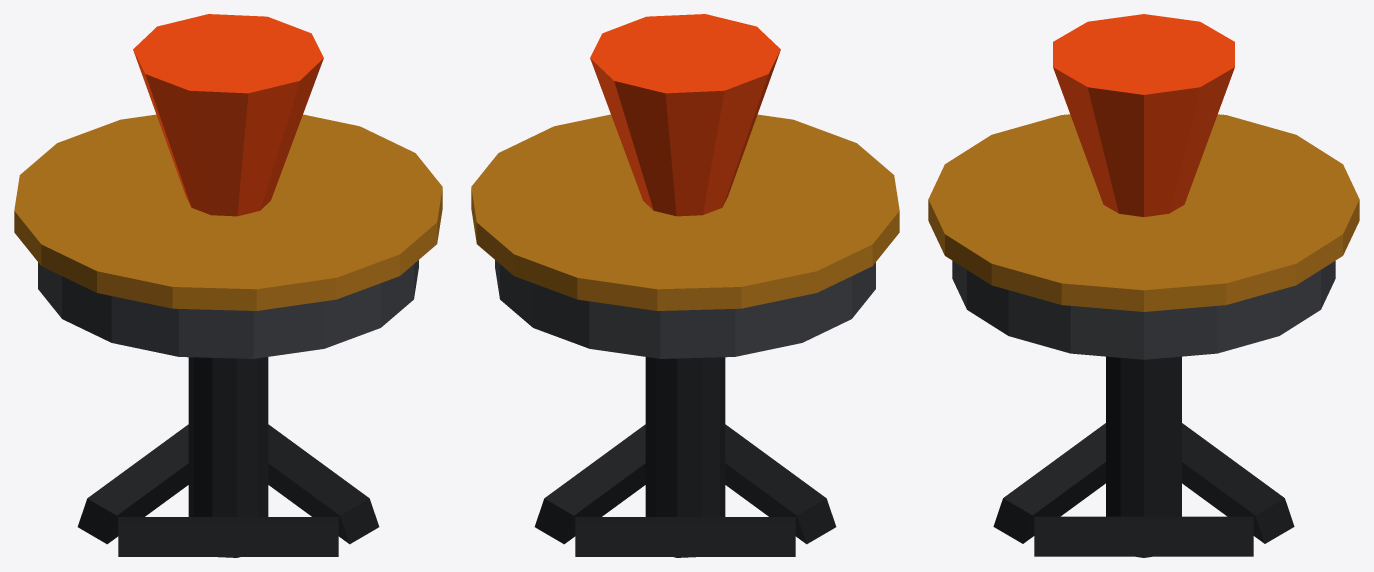
File: Brazier_A.obj
3 views of the same model, side by side, from view 1: azimuth 30°, elevation 25°; view 2: azimuth 150°, elevation 25°; view 3: azimuth 270°, elevation 25° (orthographic).
Visible parts, largest first — view 1: BrazierRim, Flame, BrazierBowl, BrazierStem, Foot1, Foot0, Foot2; view 2: BrazierRim, Flame, BrazierBowl, BrazierStem, Foot2, Foot0, Foot1; view 3: BrazierRim, Flame, BrazierBowl, BrazierStem, Foot0, Foot1, Foot2.
Boxes of the visible parts, bbox=[...] form: BrazierRim: bbox=[14, 114, 442, 310]; Flame: bbox=[133, 14, 323, 216]; BrazierBowl: bbox=[38, 260, 418, 358]; BrazierStem: bbox=[188, 357, 268, 557]; Foot1: bbox=[118, 517, 338, 556]; Foot0: bbox=[268, 424, 379, 544]; Foot2: bbox=[77, 424, 188, 544]; BrazierRim: bbox=[471, 114, 899, 310]; Flame: bbox=[590, 14, 780, 216]; BrazierBowl: bbox=[495, 260, 875, 358]; BrazierStem: bbox=[645, 357, 725, 557]; Foot2: bbox=[575, 517, 795, 556]; Foot0: bbox=[534, 424, 645, 544]; Foot1: bbox=[725, 424, 836, 544]; BrazierRim: bbox=[928, 114, 1359, 311]; Flame: bbox=[1053, 14, 1234, 216]; BrazierBowl: bbox=[952, 261, 1335, 359]; BrazierStem: bbox=[1106, 356, 1181, 557]; Foot0: bbox=[1034, 516, 1253, 556]; Foot1: bbox=[993, 423, 1105, 543]; Foot2: bbox=[1182, 423, 1294, 543].
Size of the model in its own units: 1.08 by 1.35 by 1.08.
